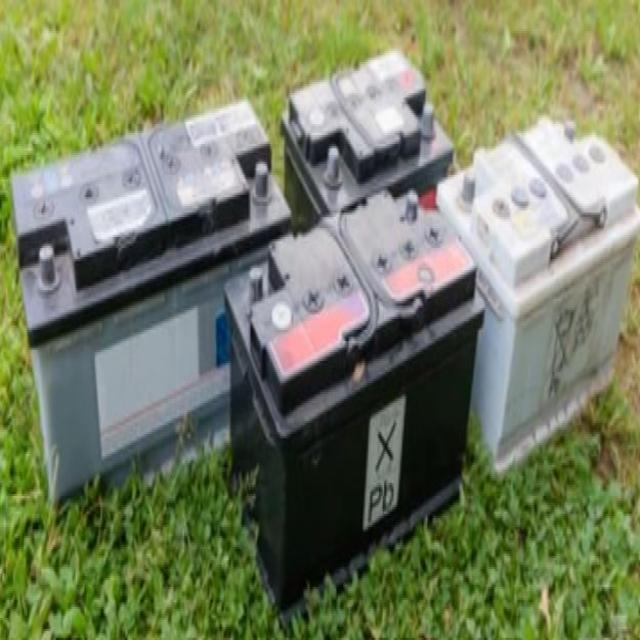electronic: (212, 192, 487, 604)
